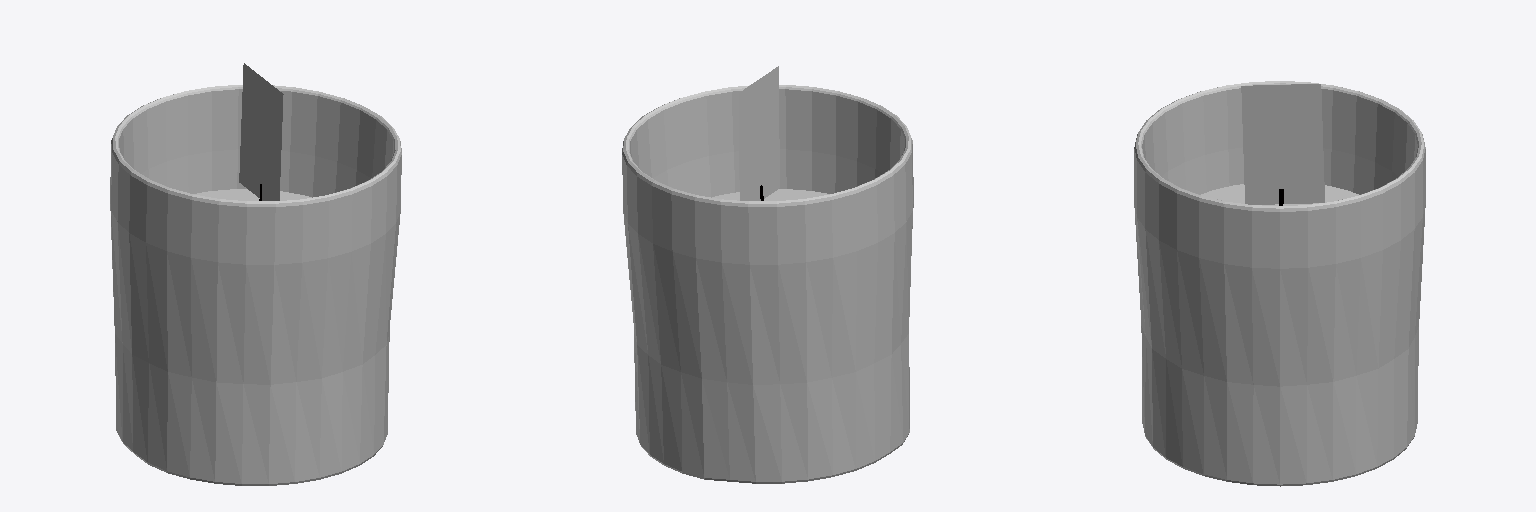
File: glass1.obj
3 renders of one model, left to right at view 1: azimuth 30°, elevation 25°; view 2: azimuth 150°, elevation 25°; view 3: azimuth 270°, elevation 25°, orthographic.
Parts seen in each view (by area): view 1: 円柱.007_円柱.009, 円柱.001, 円柱.009_円柱.010; view 2: 円柱.007_円柱.009, 円柱.001, 円柱.009_円柱.010; view 3: 円柱.007_円柱.009, 円柱.001, 円柱.009_円柱.010.
Part boxes in pixels (left/top/right/bottom): 円柱.007_円柱.009: left=110, top=85, right=401, bottom=485; 円柱.001: left=239, top=63, right=283, bottom=200; 円柱.009_円柱.010: left=194, top=184, right=311, bottom=200; 円柱.007_円柱.009: left=622, top=85, right=913, bottom=483; 円柱.001: left=739, top=66, right=779, bottom=200; 円柱.009_円柱.010: left=712, top=185, right=829, bottom=200; 円柱.007_円柱.009: left=1134, top=81, right=1425, bottom=486; 円柱.001: left=1241, top=84, right=1324, bottom=204; 円柱.009_円柱.010: left=1201, top=184, right=1358, bottom=205.
Bounding box in the file's own units: 1.09 × 1.45 × 1.08.